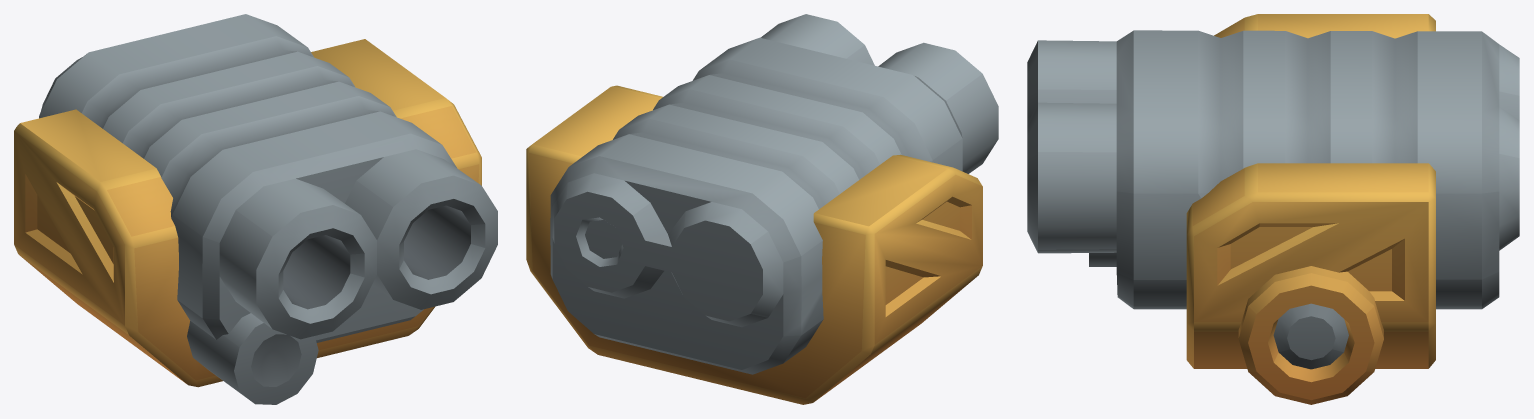
The model's file is turret_base_turret_gun.obj.
3 renders of one model, left to right at view 1: azimuth 30°, elevation 25°; view 2: azimuth 150°, elevation 25°; view 3: azimuth 270°, elevation 25°, orthographic. The views are drawn at different scales.
Parts seen in each view (by area): view 1: turret_gun; view 2: turret_gun; view 3: turret_gun.
Part boxes in pixels (box(x1,y1,x2,y2)): turret_gun: box(14, 14, 497, 404); turret_gun: box(526, 14, 998, 404); turret_gun: box(1027, 14, 1519, 404).
Size of the model in its own units: 0.9397 by 0.5451 by 1.
1 material, 1 textured.
